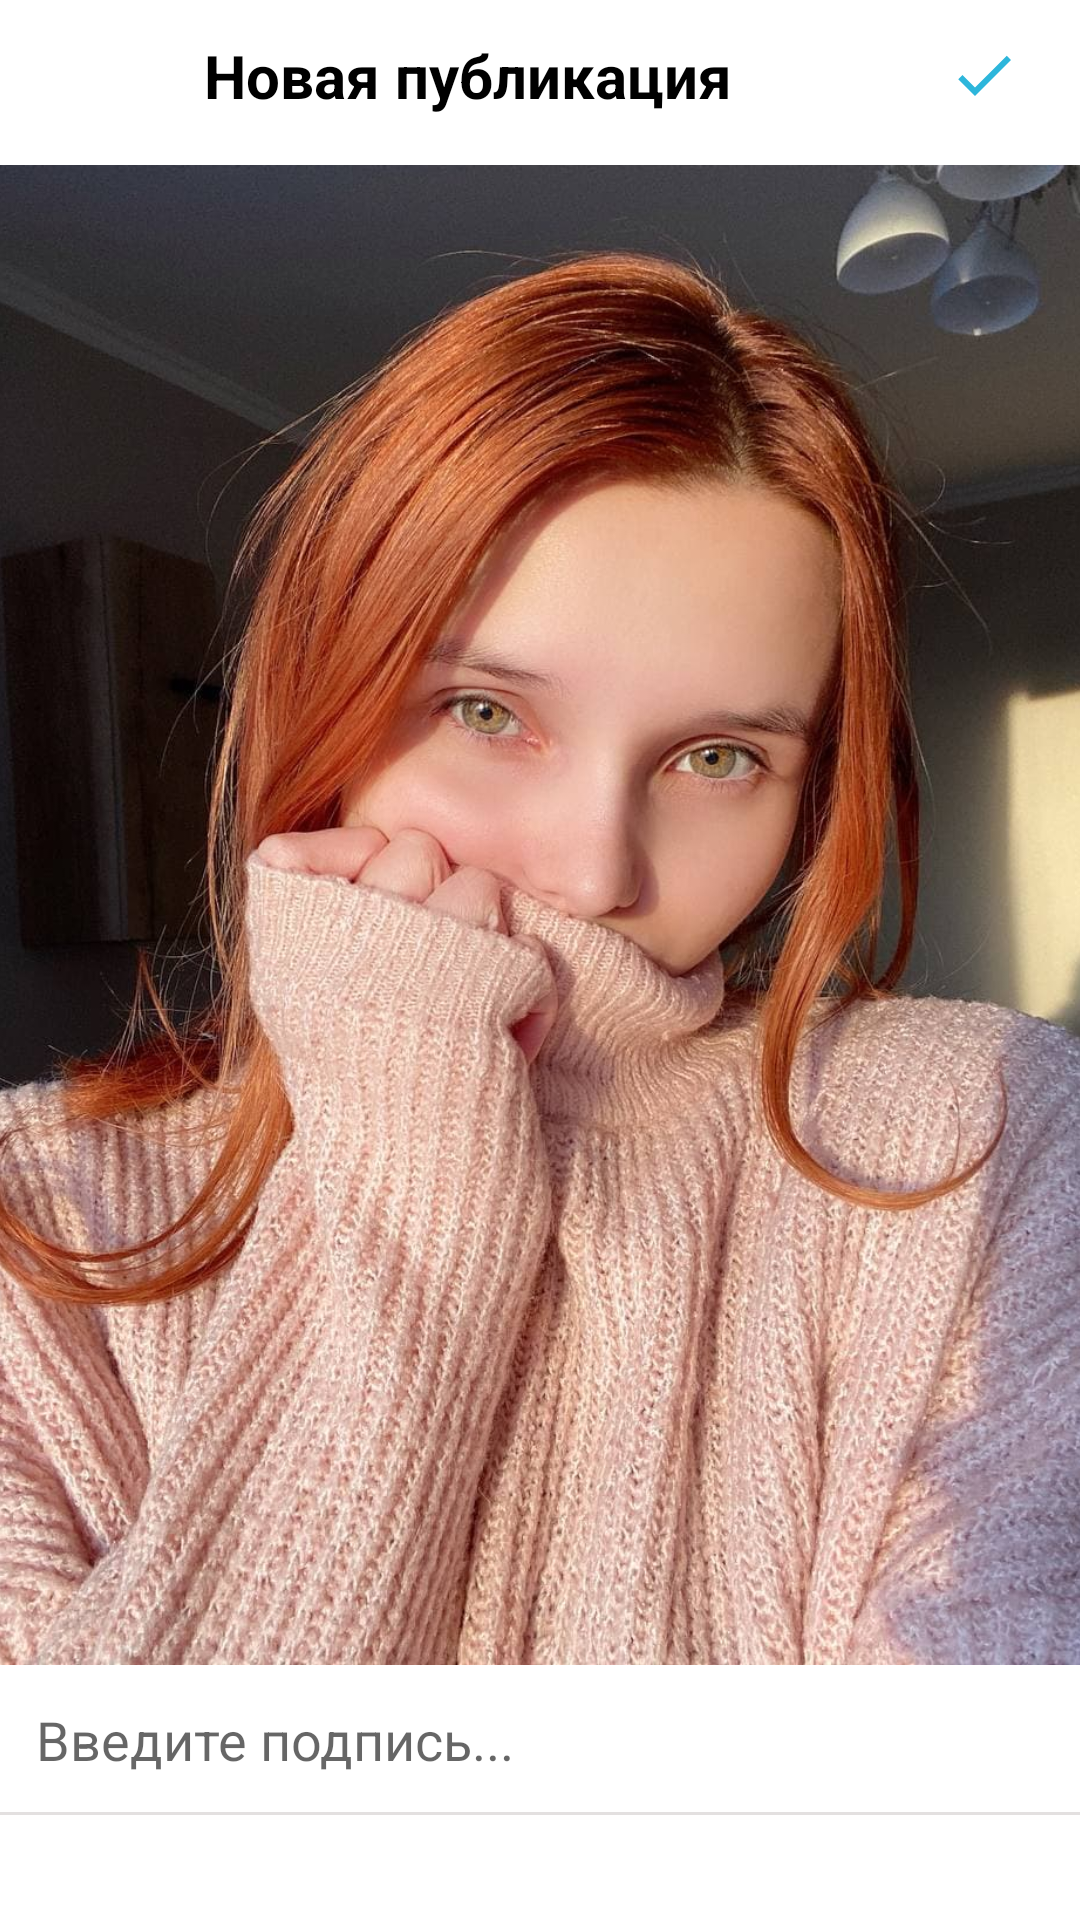

Point at icon controls on the screen. Image size 1080w x 1920h, points as point (x, y).
select: point (984, 76)
